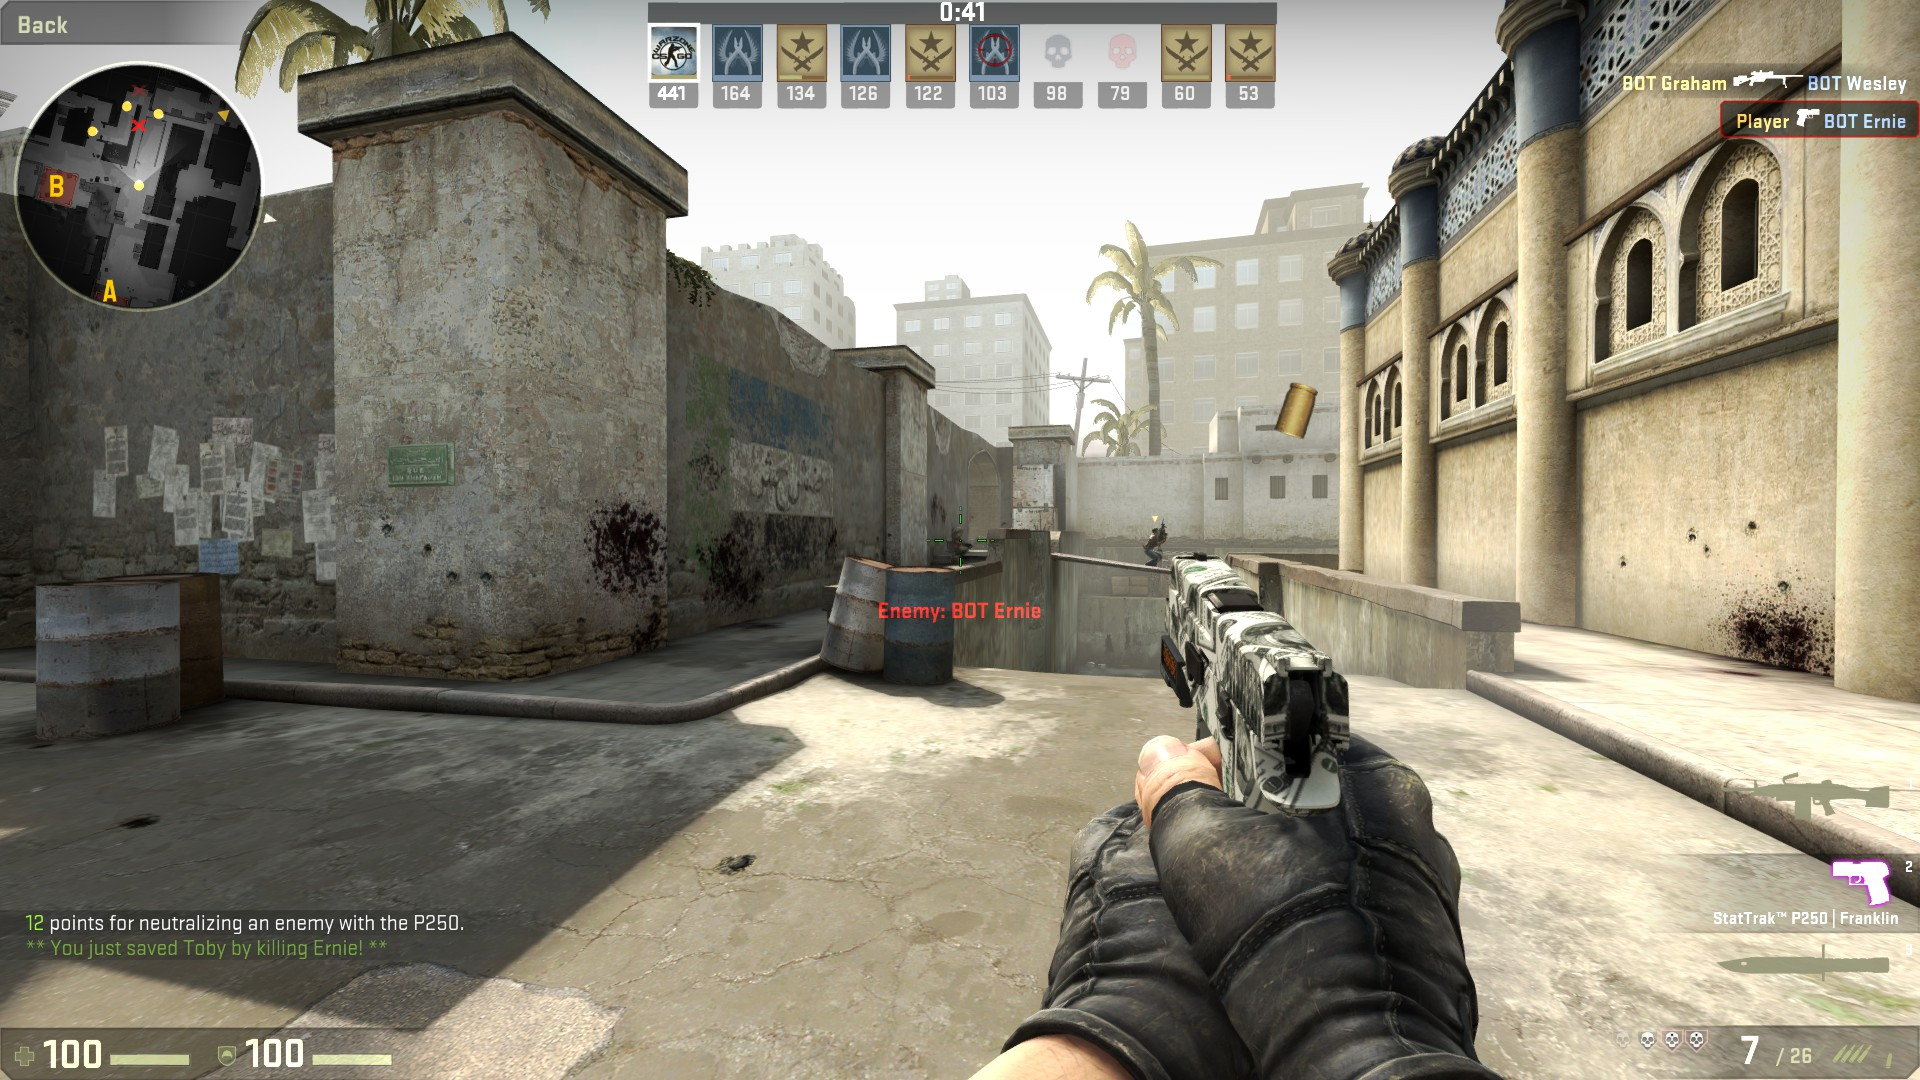c: (948, 527, 968, 570)
ch: (951, 526, 965, 542)
t: (1145, 527, 1166, 567)
th: (1153, 527, 1160, 538)
